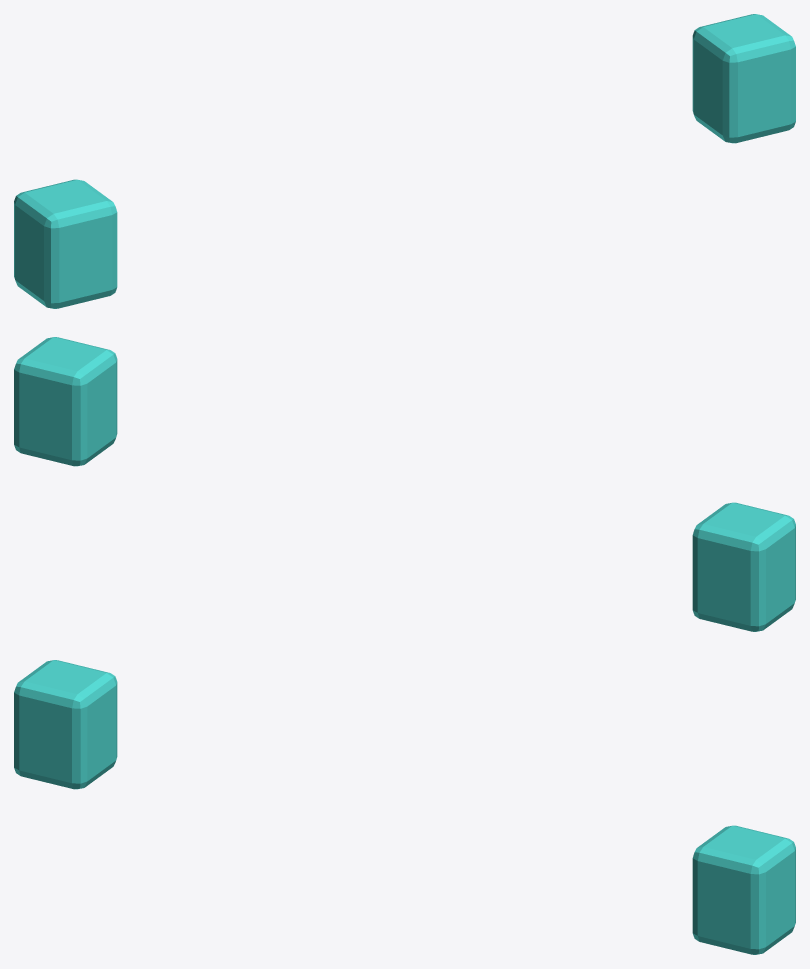
The model's file is gauntlets.glb.
The picture shows the model from 3 angles, top to bottom: view 1: azimuth 30°, elevation 25°; view 2: azimuth 150°, elevation 25°; view 3: azimuth 330°, elevation 25°; orthographic projection.
Visible parts, largest first — view 1: 01_CyanStriker_ShockGauntletL.001, 01_CyanStriker_ShockGauntletR.001; view 2: 01_CyanStriker_ShockGauntletL.001, 01_CyanStriker_ShockGauntletR.001; view 3: 01_CyanStriker_ShockGauntletL.001, 01_CyanStriker_ShockGauntletR.001.
Part boxes in pixels (x1,y1,x2,y2): 01_CyanStriker_ShockGauntletL.001: (692, 14, 795, 143); 01_CyanStriker_ShockGauntletR.001: (14, 179, 117, 308); 01_CyanStriker_ShockGauntletL.001: (14, 337, 117, 466); 01_CyanStriker_ShockGauntletR.001: (692, 502, 795, 631); 01_CyanStriker_ShockGauntletL.001: (692, 825, 795, 954); 01_CyanStriker_ShockGauntletR.001: (14, 660, 117, 789).
Size of the model in its own units: 1.4 by 0.17 by 0.13.
